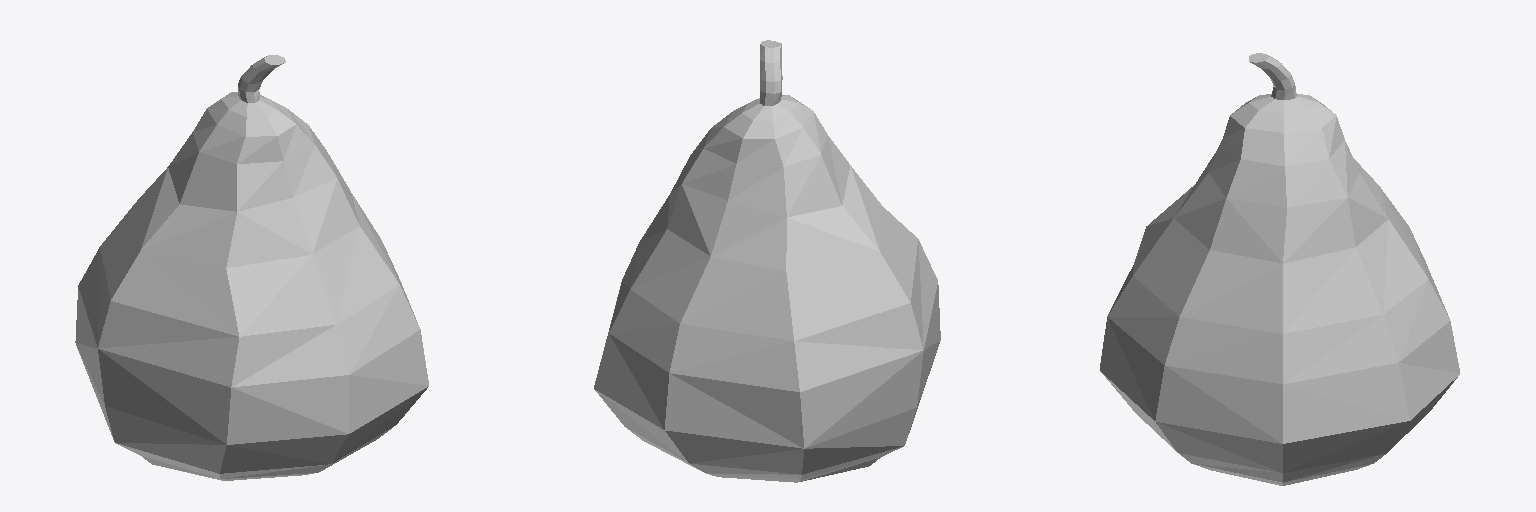
The model's file is Pearto.obj.
3 views of the same model, side by side, from view 1: azimuth 30°, elevation 25°; view 2: azimuth 150°, elevation 25°; view 3: azimuth 270°, elevation 25° (orthographic).
Parts seen in each view (by area): view 1: Pearto_Material.001_0; view 2: Pearto_Material.001_0; view 3: Pearto_Material.001_0.
Part boxes in pixels (x1,y1,x2,y2): Pearto_Material.001_0: (75, 55, 428, 480); Pearto_Material.001_0: (594, 40, 940, 482); Pearto_Material.001_0: (1100, 53, 1459, 485).
Size of the model in its own units: 0.7849 by 0.9698 by 0.7817.